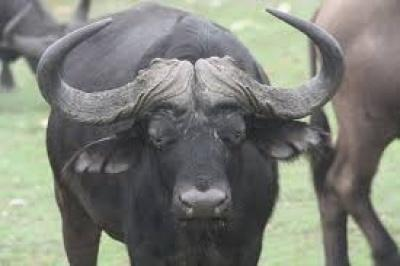buffalo: (36, 3, 341, 265)
